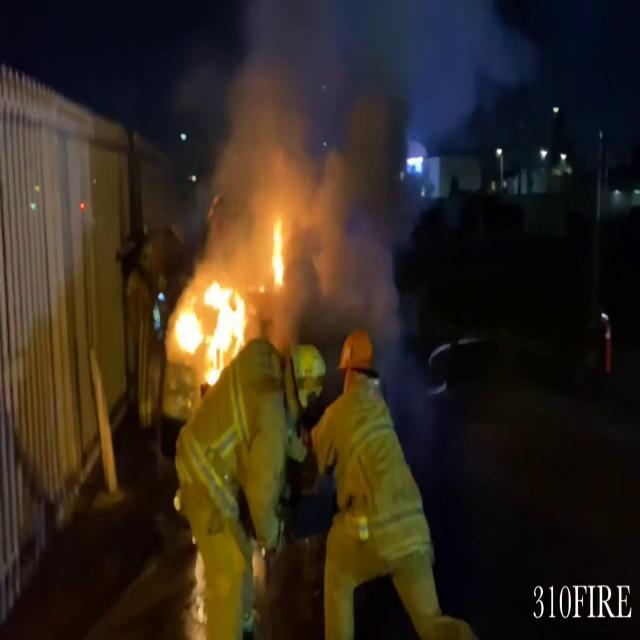Fire: (171, 266, 251, 373), (268, 210, 289, 292)
Smoke: (198, 1, 410, 308)
